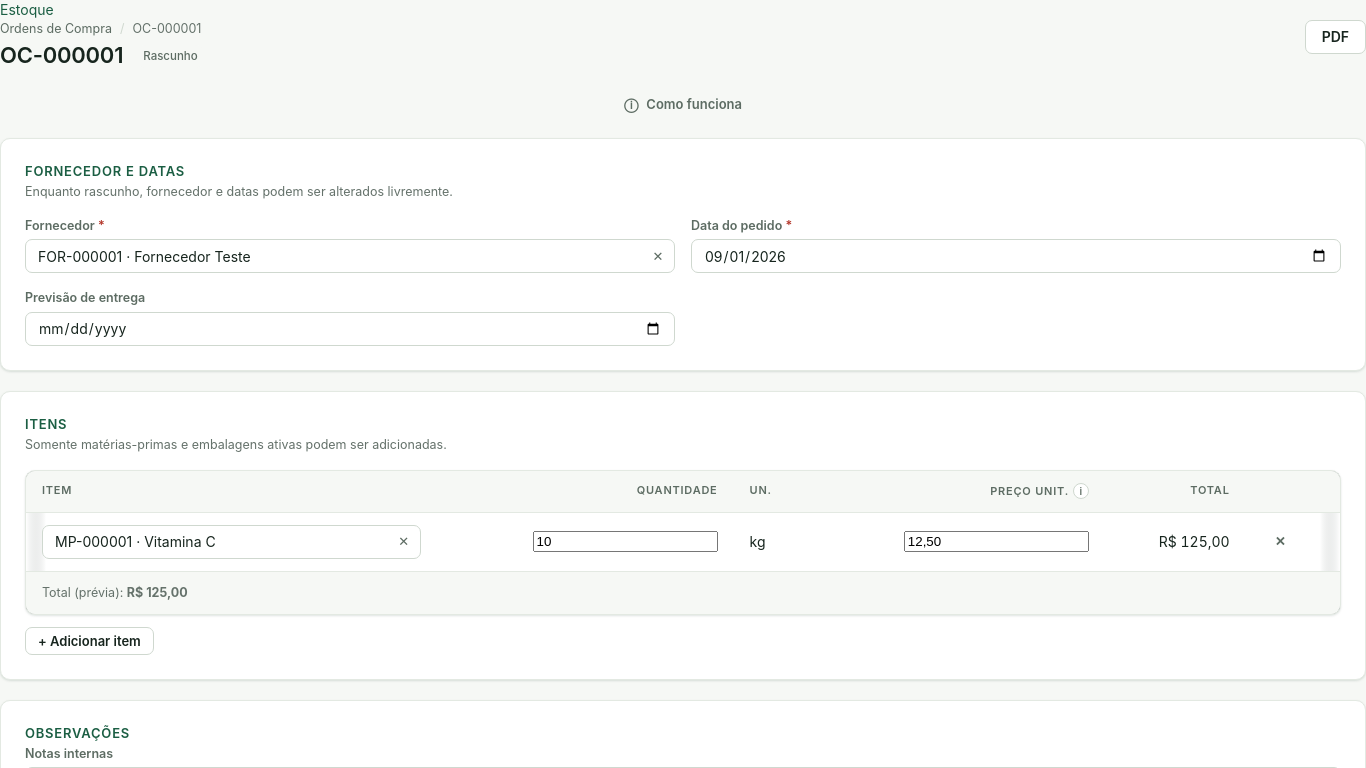
Scenario: com alteração pendente — gravar antes de agir › o salvar enviado é o normal da tela: fornecedor, linhas, previsão e observações
The width and height of the screenshot is (1366, 768).
Expected: the heading "OC-000001" is shown, [0, 42, 123, 70]
Step 1. Replace the text in the field named "Quantidade de MP-000001" with "12" → (625,542), box [533, 531, 718, 552]
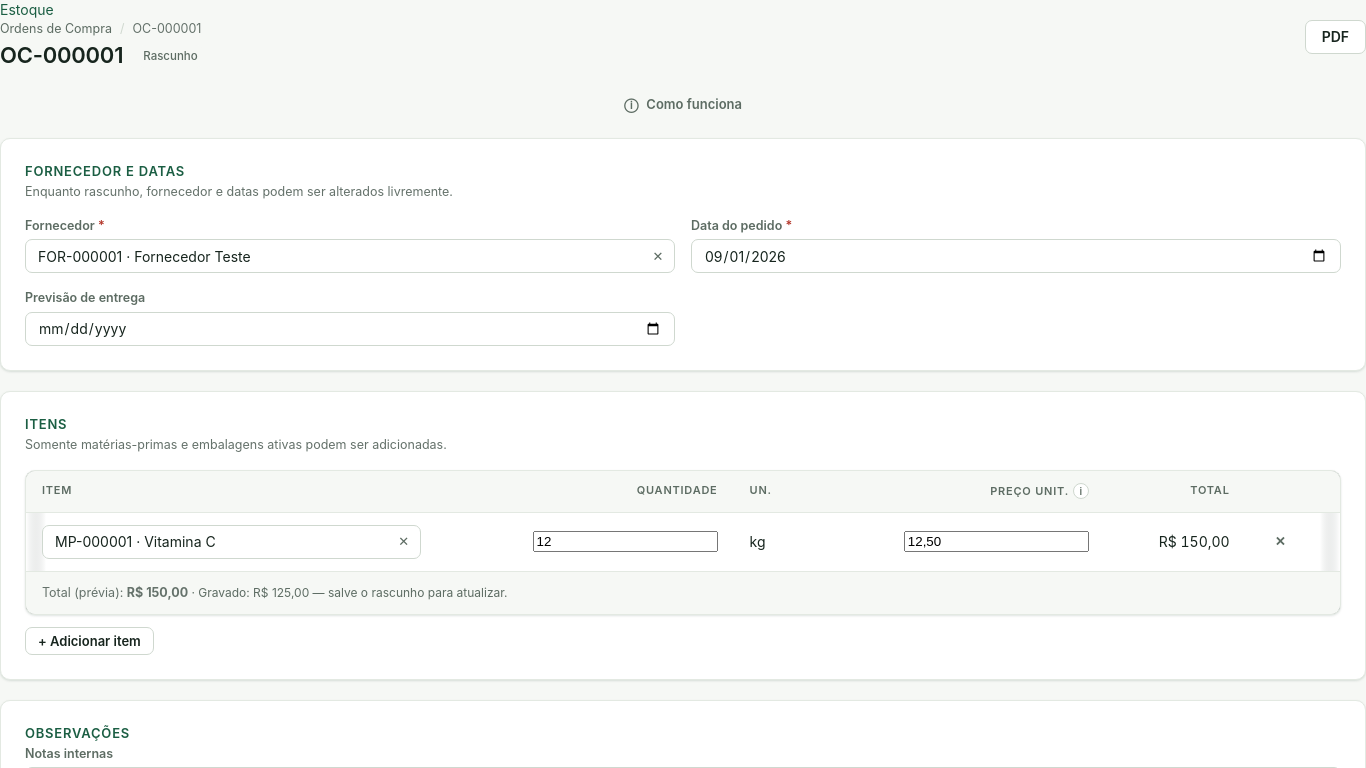
Step 2. Replace the text in the field named "Preço unitário de MP-000001" with "13,40" → (996,542), box [904, 531, 1089, 552]
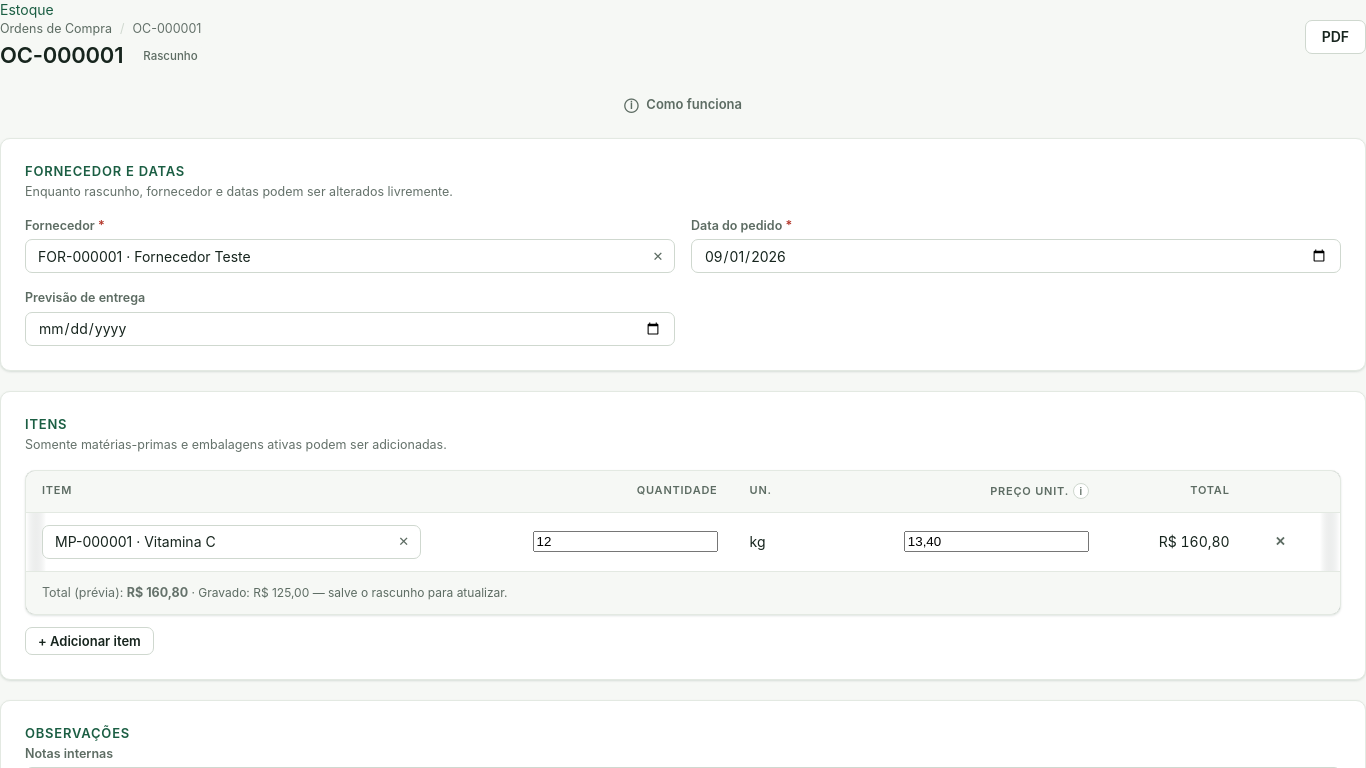
Step 3. Type "2026-10-05" into the date field labelled "Previsão de entrega" → (350,328), box [25, 312, 675, 346]
(page scrolled)
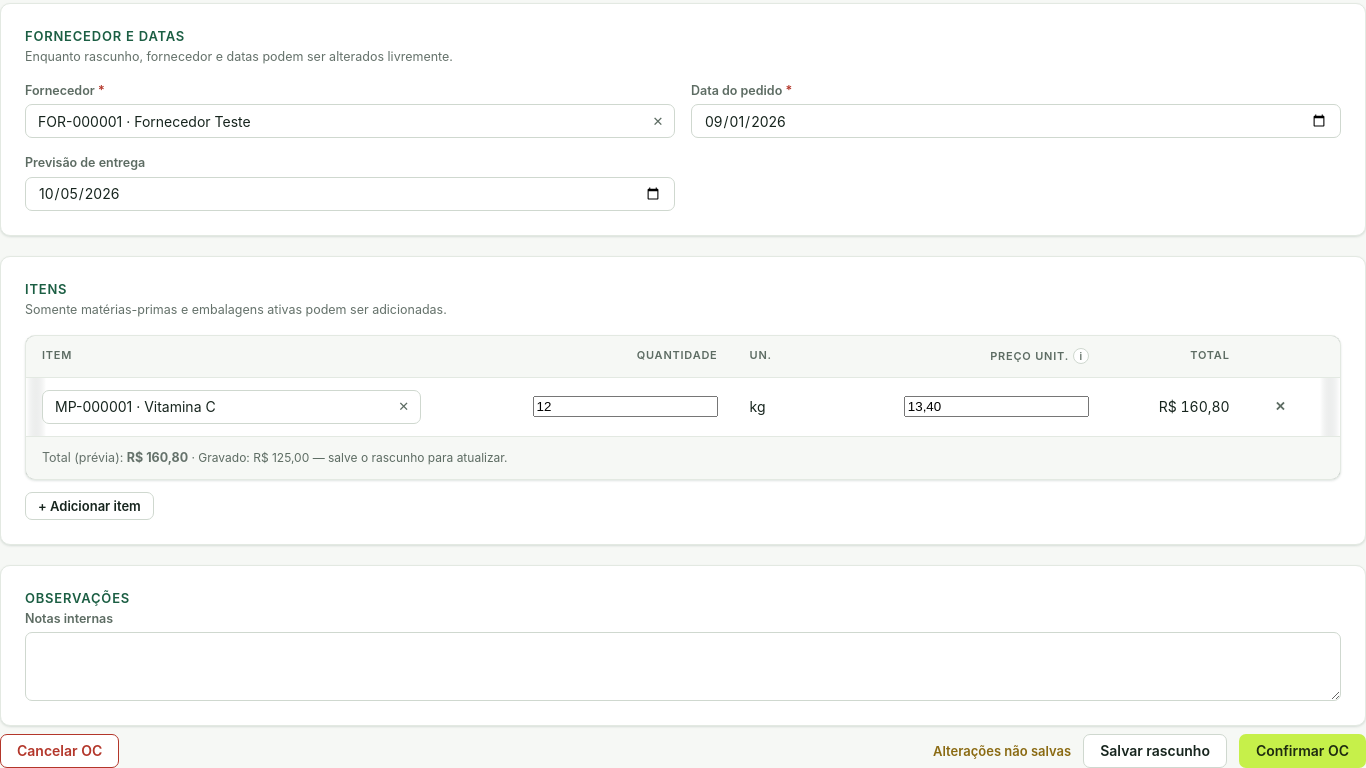
Step 4. Type "Entregar na doca 2" into the text box labelled "Notas internas" → (683,667), box [25, 632, 1341, 701]
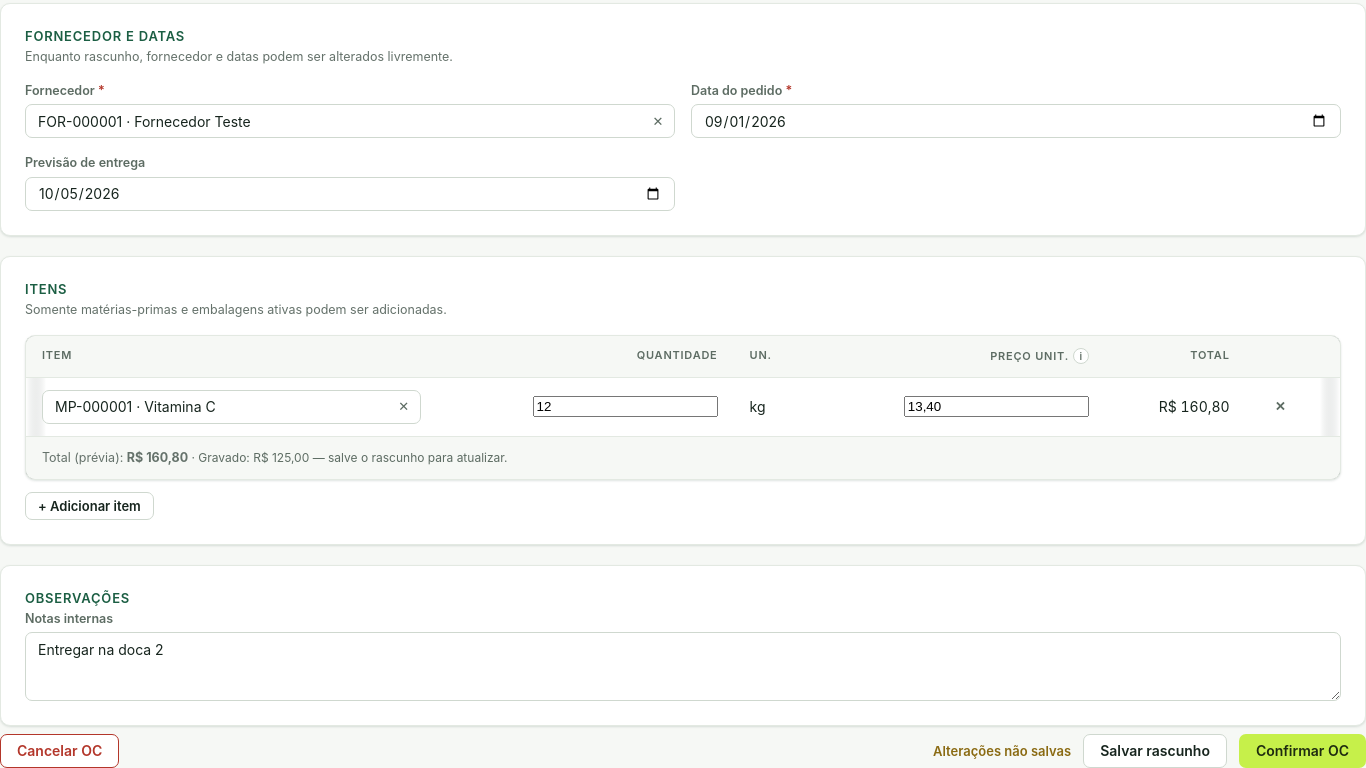
Result: the text "Alterações não salvas" is shown at [933, 742, 1071, 761]
Step 5. Click the button "Confirmar OC" → (1302,751), box [1239, 734, 1365, 767]
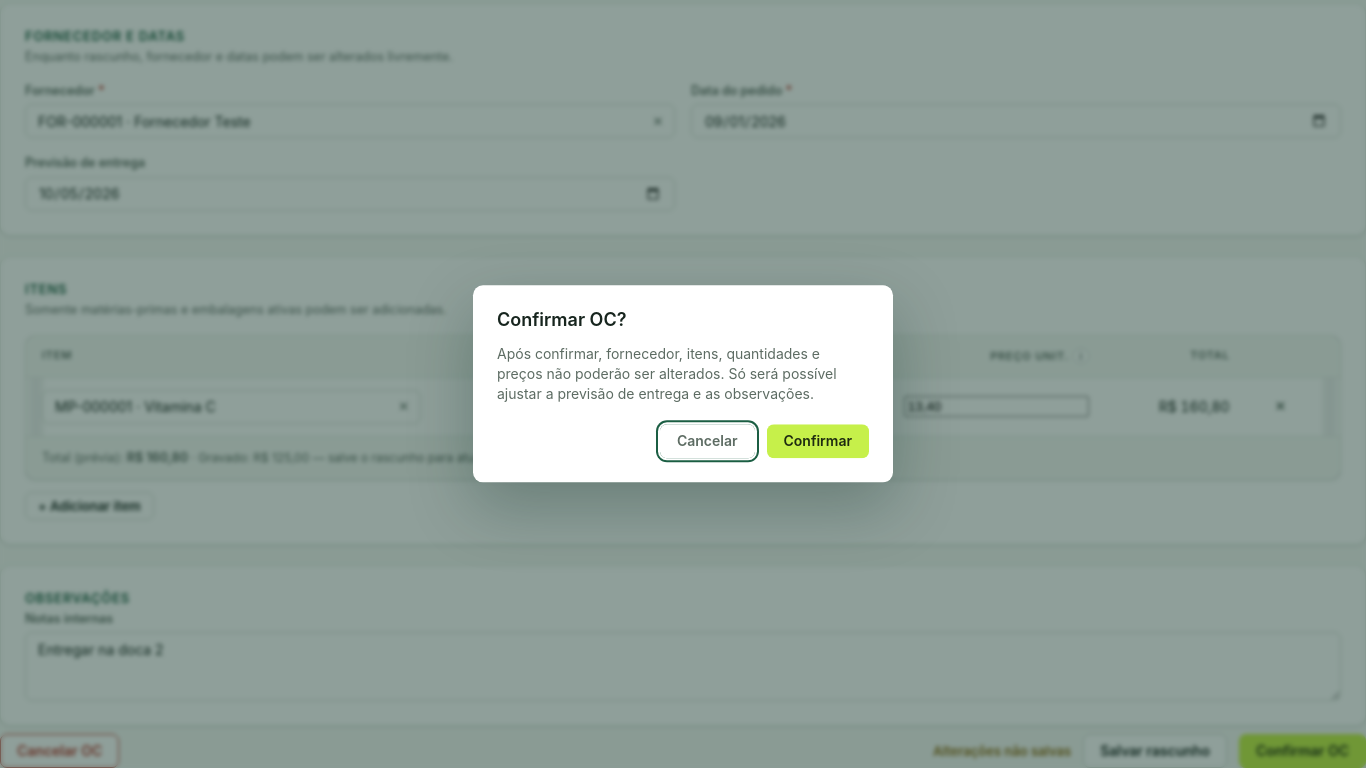
Step 6. Click the button "Confirmar" → (818,442), box [766, 425, 869, 459]
(page scrolled)
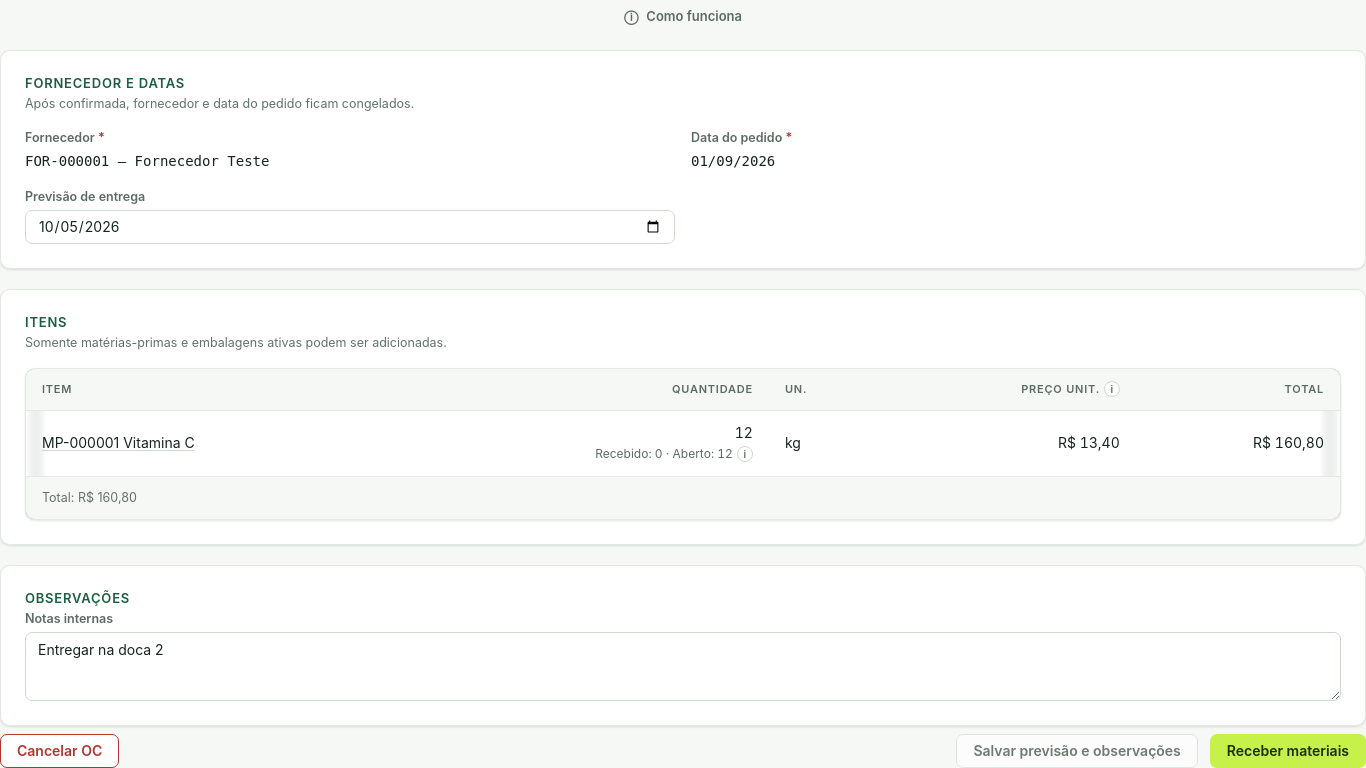
Result: the button "Salvar previsão e observações" is shown at [956, 734, 1198, 767]
